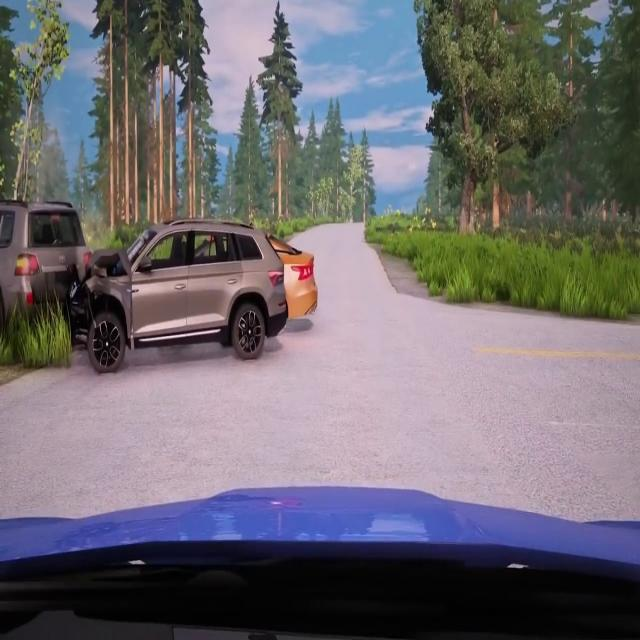accident: (0, 193, 322, 368)
